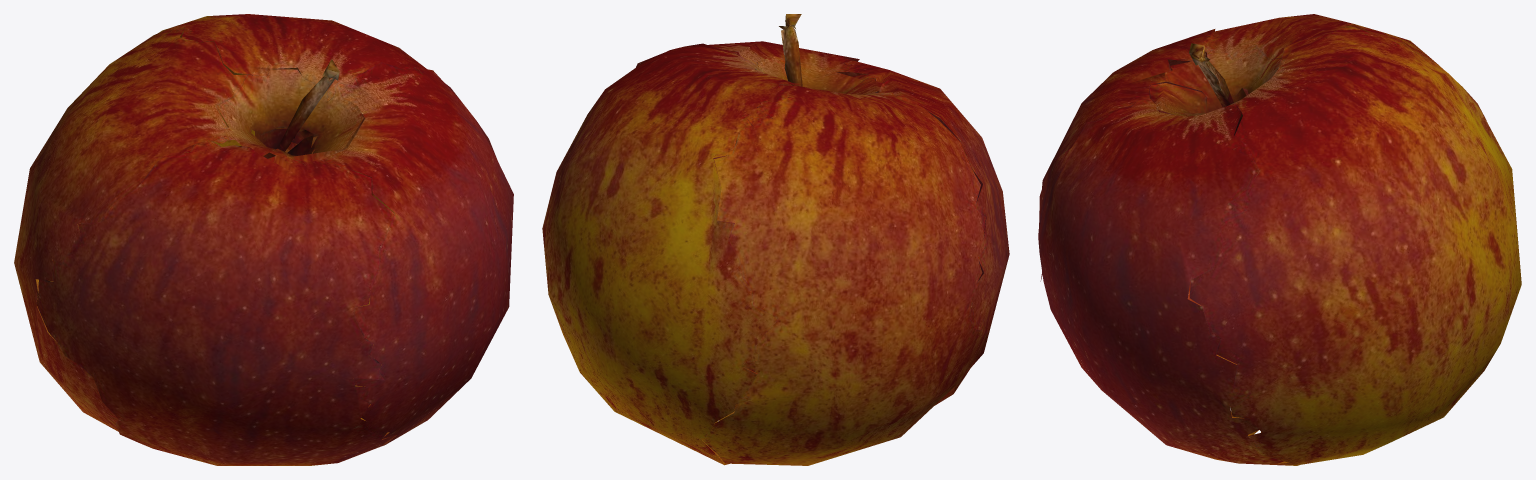
The model's file is food_apple_01.glb.
The picture shows the model from 3 angles, left to right: view 1: azimuth 30°, elevation 25°; view 2: azimuth 150°, elevation 25°; view 3: azimuth 270°, elevation 25°; orthographic projection. The views are drawn at different scales.
Parts seen in each view (by area): view 1: food_apple_01; view 2: food_apple_01; view 3: food_apple_01.
Part boxes in pixels (x1=…): food_apple_01: x1=14, y1=14, x2=513, y2=465; food_apple_01: x1=542, y1=14, x2=1009, y2=465; food_apple_01: x1=1038, y1=14, x2=1521, y2=465.
Size of the model in its own units: 0.0979 by 0.0857 by 0.0959.
Materials: 1 (1 with a texture image).
